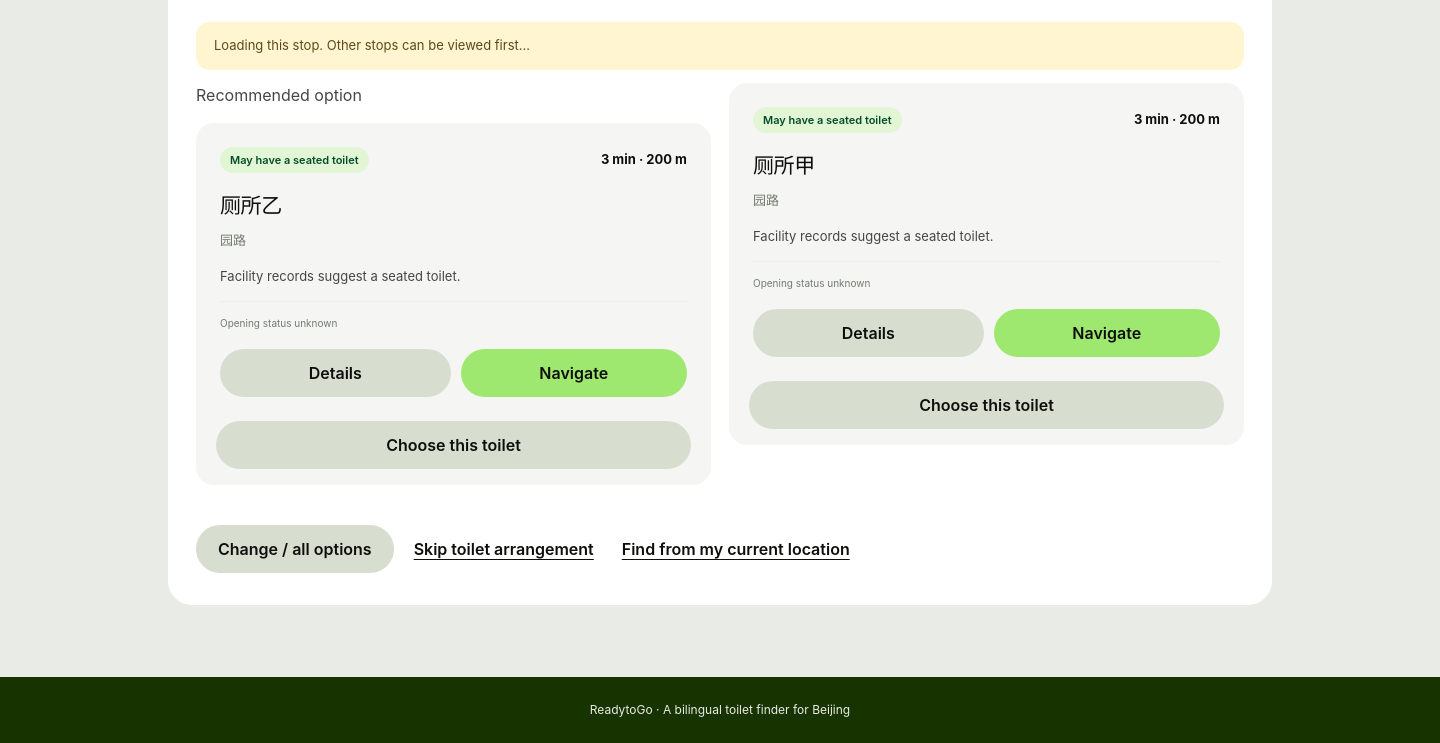
it: late analysis does not overwrite an explicit toilet choice or a skipped stop
The width and height of the screenshot is (1440, 743).
(page scrolled)
Step 1. Click the button "Choose this toilet" below "厕所乙" → (454, 445), box [216,421,691,469]
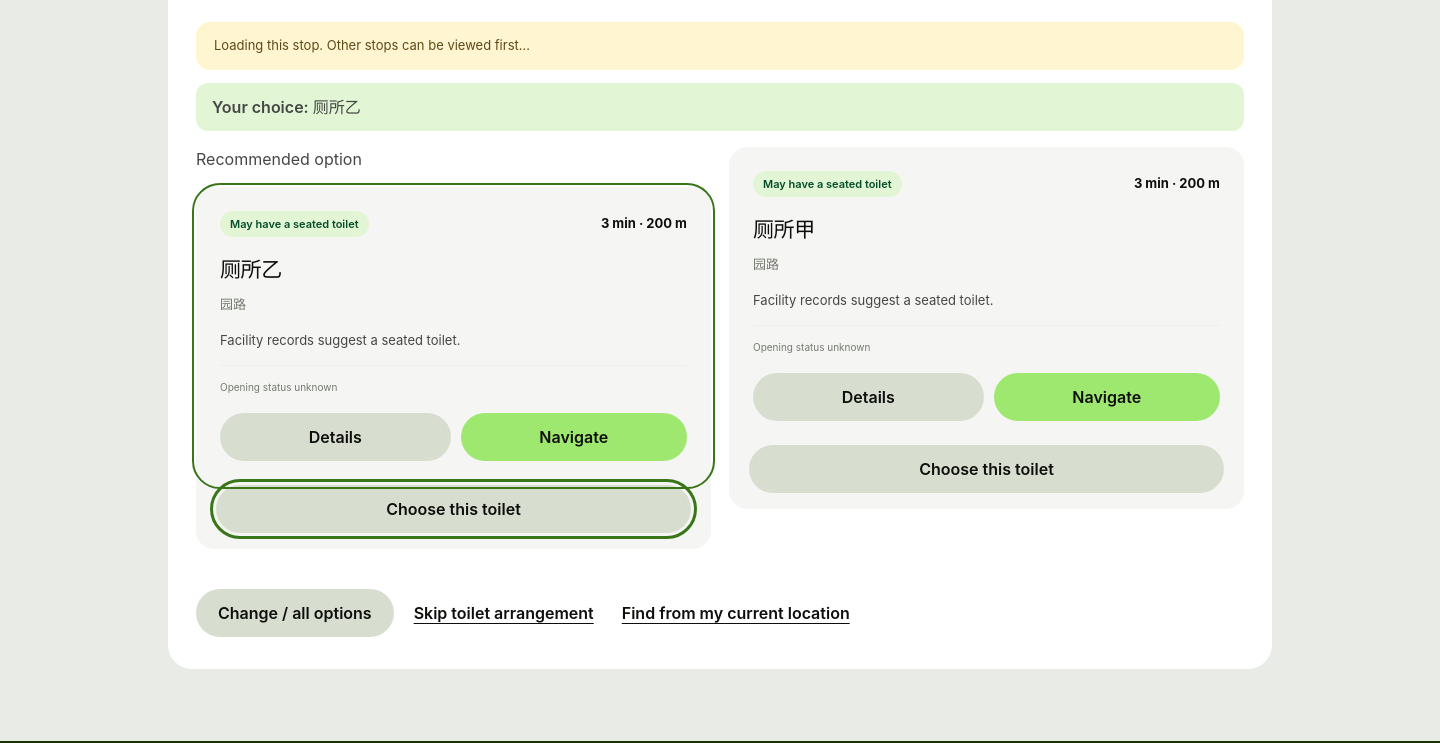
Expected: the heading "厕所乙" is shown, [220,257,282,282]
Step 2. Click the button "Skip toilet arrangement" → (504, 613), box [406,589,602,637]
(page scrolled)
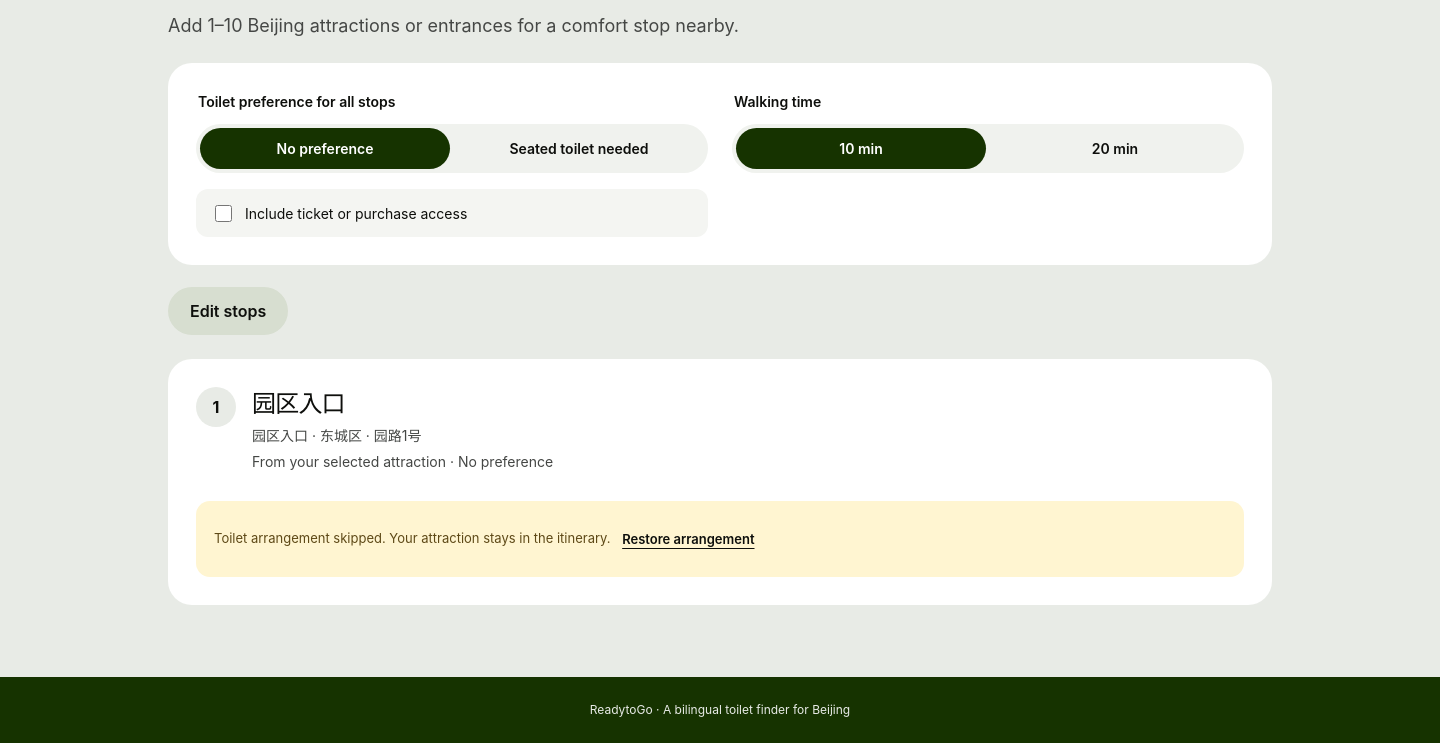
Result: the text "Toilet arrangement skipped" is shown at [214,531,610,547]
